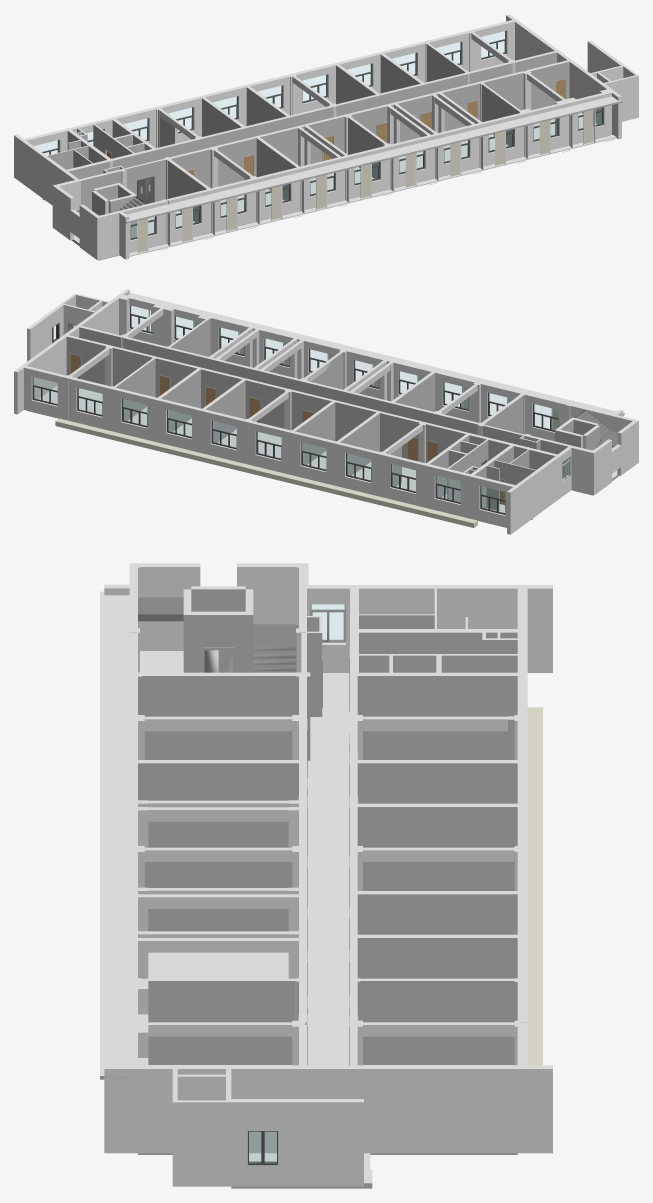
3 views of the same model, one above another, from view 1: azimuth 30°, elevation 25°; view 2: azimuth 150°, elevation 25°; view 3: azimuth 270°, elevation 25° (orthographic). The views are drawn at different scales.
Visible parts, largest first — view 1: 矩形钢管_杆件_30x30x5__2254721__1; view 2: 矩形钢管_杆件_30x30x5__2254721__1; view 3: 矩形钢管_杆件_30x30x5__2254721__1.
Boxes of the visible parts, x1=… form: 矩形钢管_杆件_30x30x5__2254721__1: x1=14, y1=14, x2=638, y2=260; 矩形钢管_杆件_30x30x5__2254721__1: x1=14, y1=289, x2=638, y2=534; 矩形钢管_杆件_30x30x5__2254721__1: x1=100, y1=563, x2=552, y2=1188.
Bounding box in the file's own units: 49440 × 4100 × 17540.
